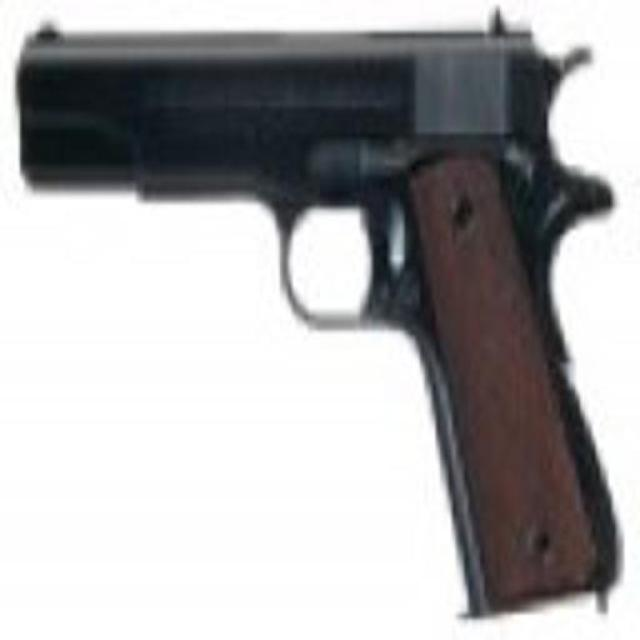pistol: (24, 15, 620, 612)
